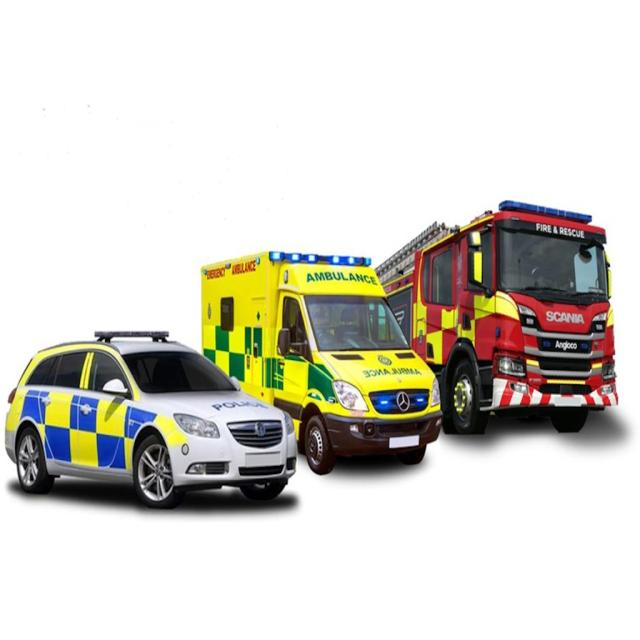car: (5, 333, 298, 508)
emergency: (376, 200, 619, 433), (201, 252, 440, 473)
